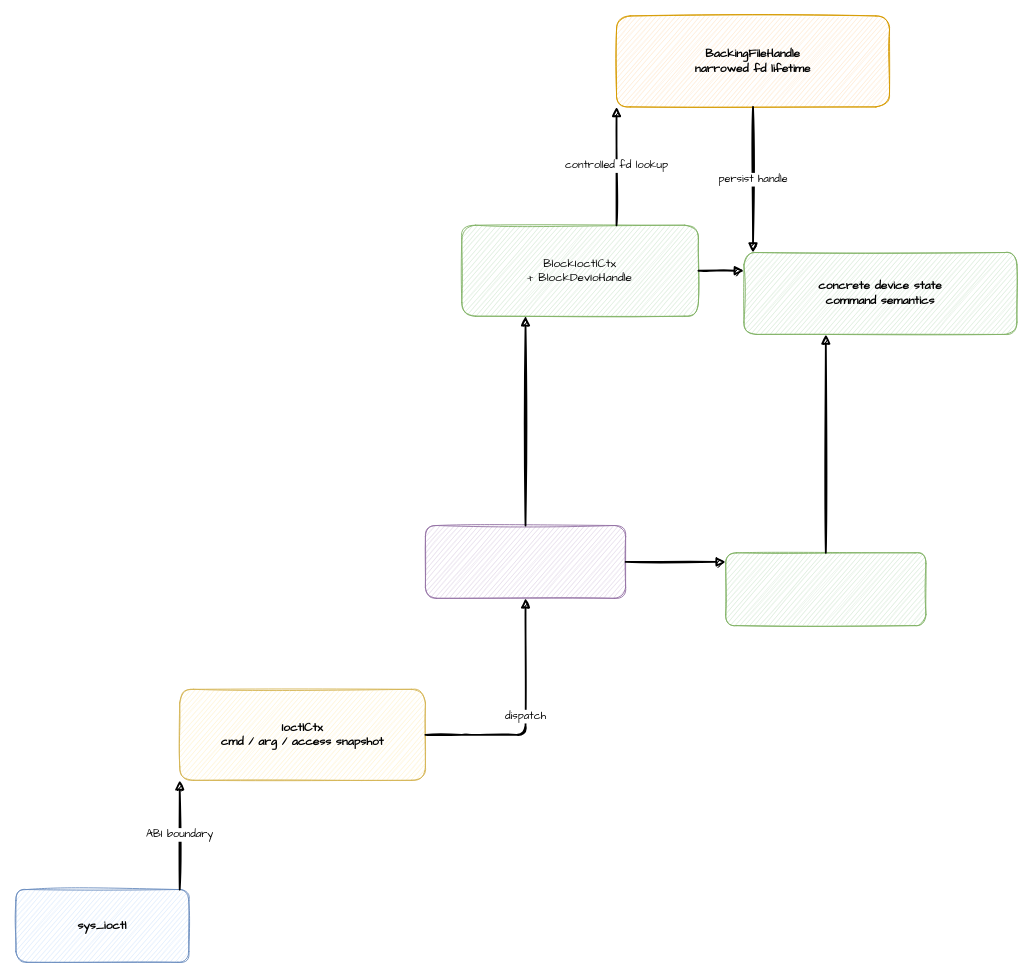
The diagram is 1033 pixels wide and 978 high, and some of its shapes have lost their labels. Each missing label, with the centre of its shape:
CharIoctlCtx: the point at 825,589
FileOps::ioctl: the point at 525,561
